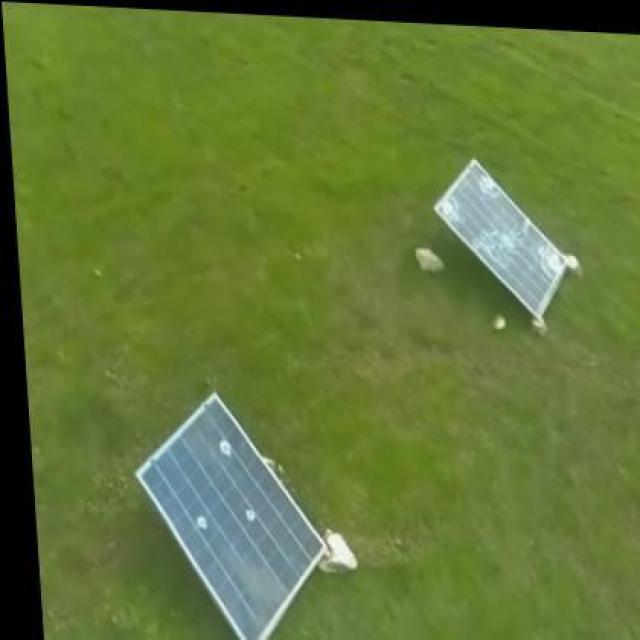cracked: (428, 156, 573, 316)
soiled: (125, 391, 327, 640)
